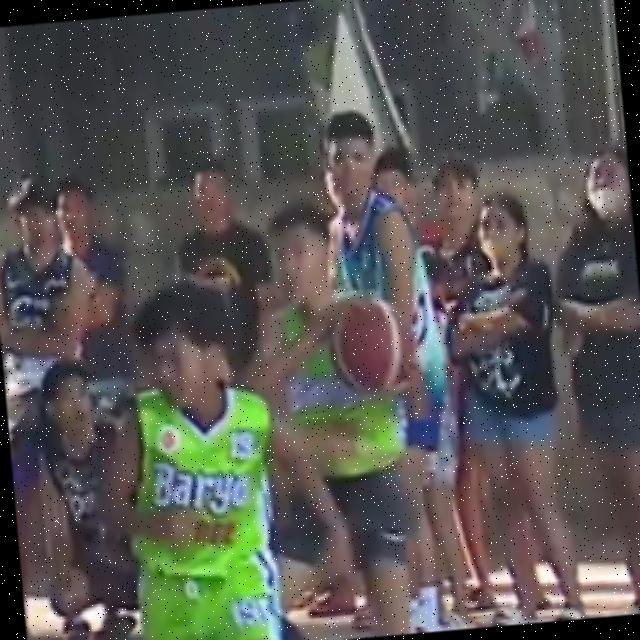ball: (318, 288, 420, 407)
